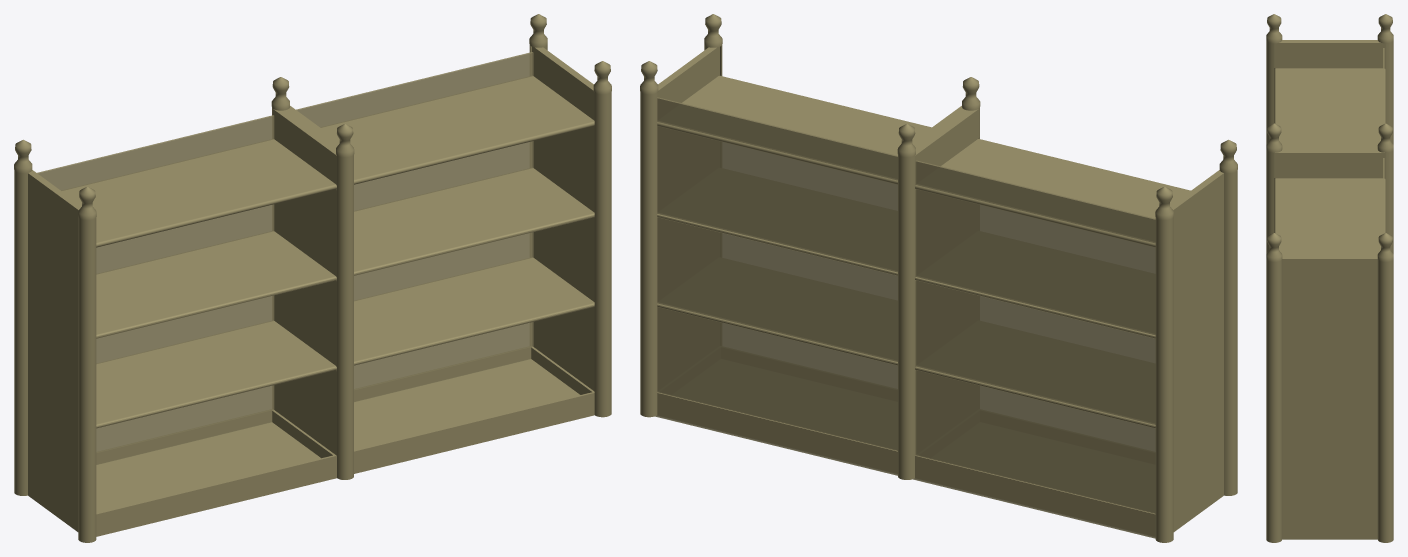
The model's file is Bookshelf.fbx.
3 renders of one model, left to right at view 1: azimuth 30°, elevation 25°; view 2: azimuth 150°, elevation 25°; view 3: azimuth 270°, elevation 25°, orthographic. The views are drawn at different scales.
Visible parts, largest first — view 1: Mebel; view 2: Mebel; view 3: Mebel.
Boxes of the visible parts, <box> form: Mebel: <box>14,14,611,542</box>; Mebel: <box>640,14,1237,542</box>; Mebel: <box>1266,14,1393,542</box>.
Size of the model in its own units: 4.79 by 3.05 by 1.14.
